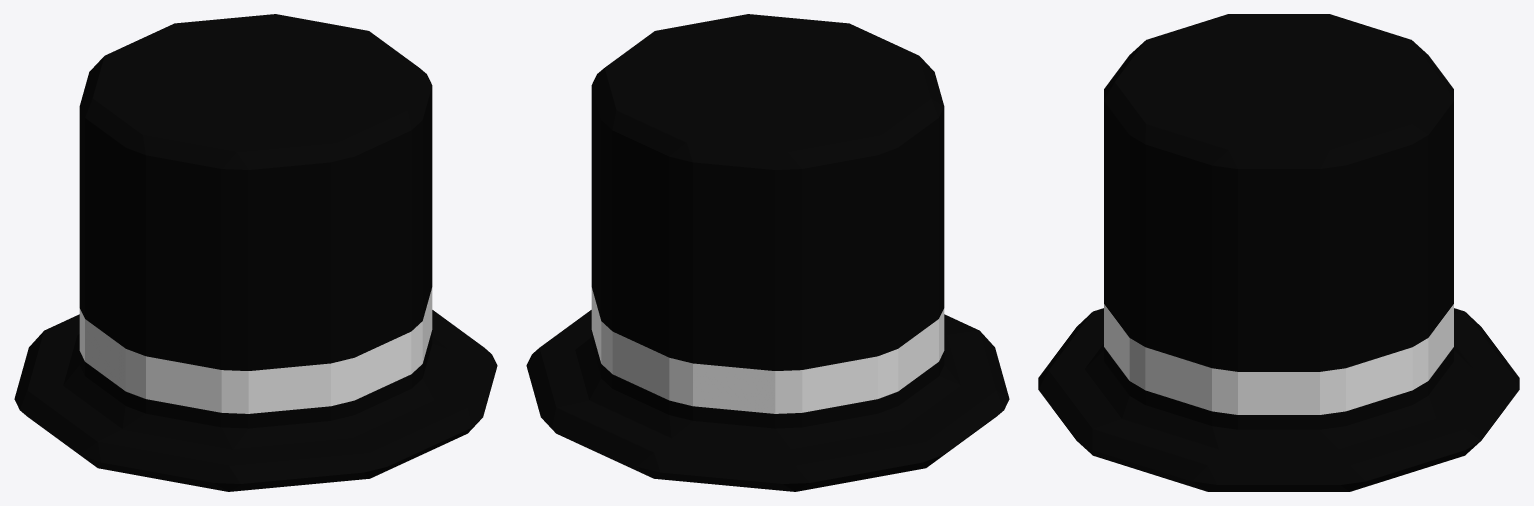
The model's file is Top Hat.fbx.
3 renders of one model, left to right at view 1: azimuth 30°, elevation 25°; view 2: azimuth 150°, elevation 25°; view 3: azimuth 270°, elevation 25°, orthographic.
Parts seen in each view (by area): view 1: Top Hat; view 2: Top Hat; view 3: Top Hat.
Part boxes in pixels (left/top/right/bottom): Top Hat: left=14, top=14, right=497, bottom=491; Top Hat: left=526, top=14, right=1009, bottom=491; Top Hat: left=1038, top=14, right=1519, bottom=491.
Size of the model in its own units: 150 by 108 by 150.
1 material, 1 textured.
